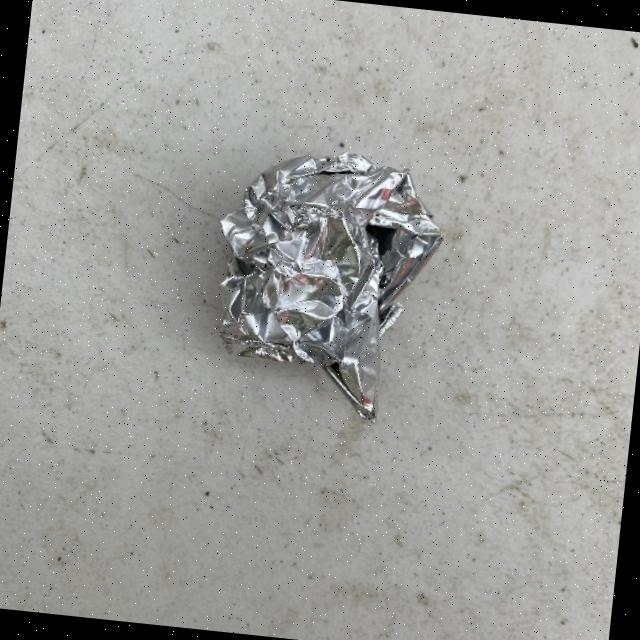metal: (200, 137, 450, 427)
